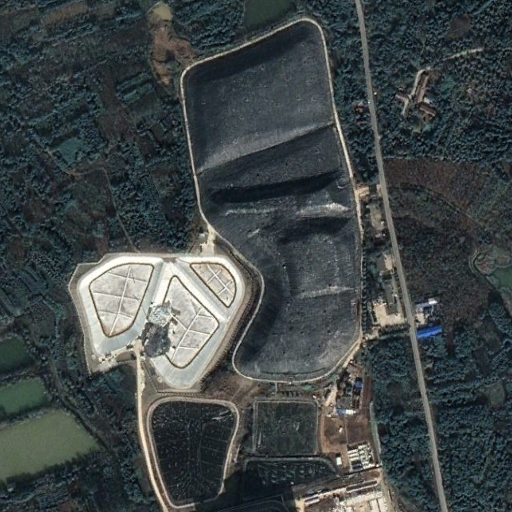lf: (177, 18, 364, 381)
